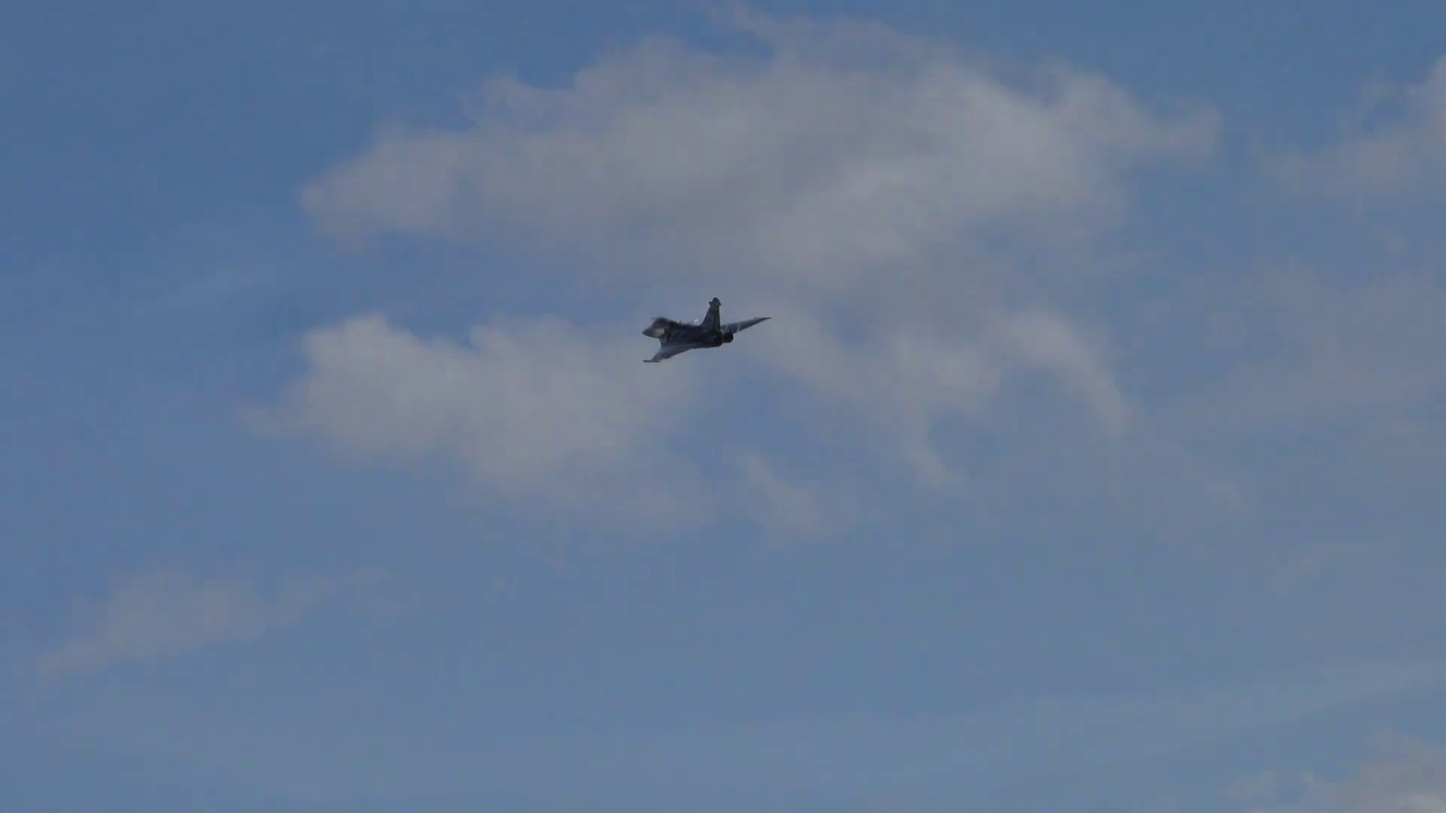Rafale: (637, 293, 772, 363)
